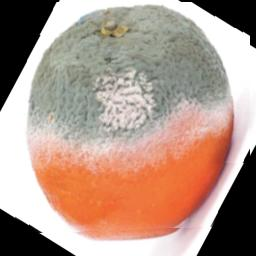Orange Rotten: (13, 2, 251, 234)
